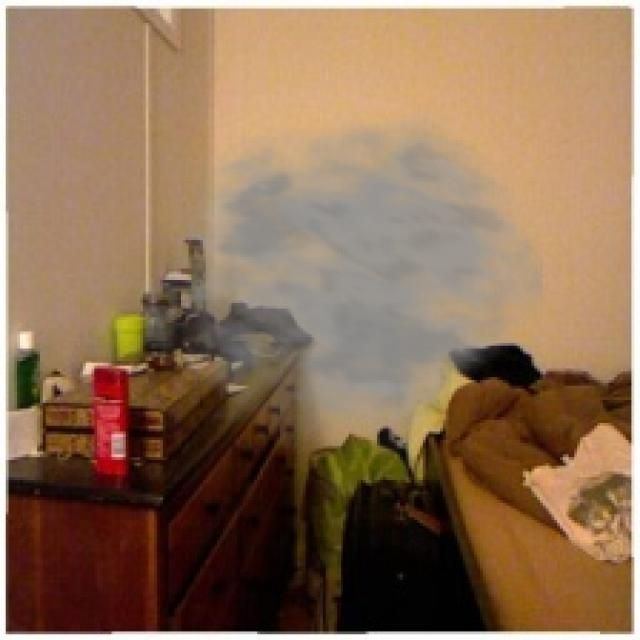smoke: (128, 109, 548, 457)
